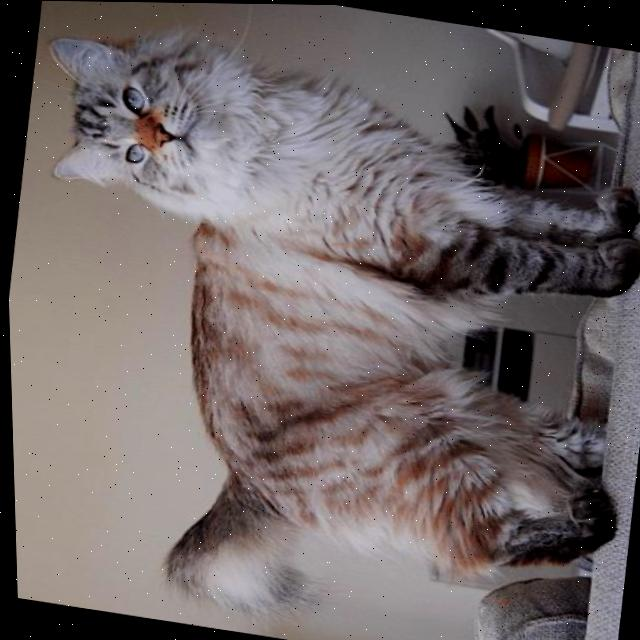American Bobtail: (0, 1, 640, 640)
